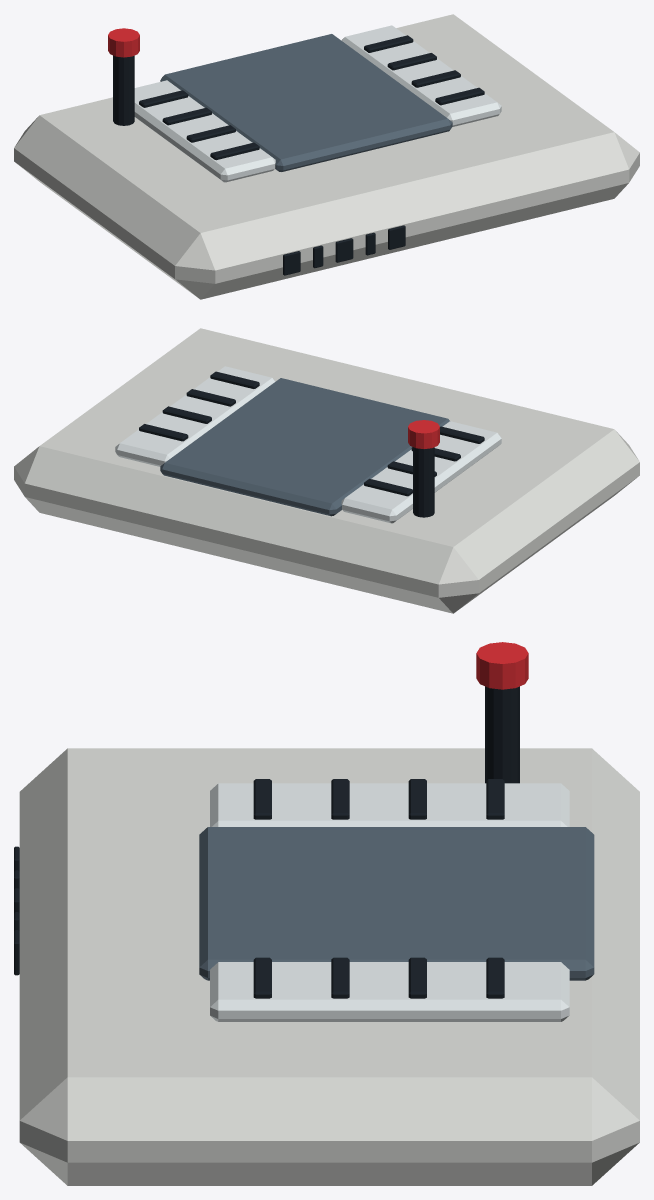
The model's file is 01_top_shell.obj.
3 views of the same model, one above another, from view 1: azimuth 30°, elevation 25°; view 2: azimuth 150°, elevation 25°; view 3: azimuth 270°, elevation 25° (orthographic). The views are drawn at different scales.
Visible parts, largest first — view 1: fragment_01_top_shell; view 2: fragment_01_top_shell; view 3: fragment_01_top_shell.
Part boxes in pixels (bbox=[...]): fragment_01_top_shell: bbox=[14, 14, 639, 299]; fragment_01_top_shell: bbox=[14, 328, 639, 613]; fragment_01_top_shell: bbox=[14, 642, 639, 1185].
Bounding box in the file's own units: 1.24 × 0.39 × 0.888.
